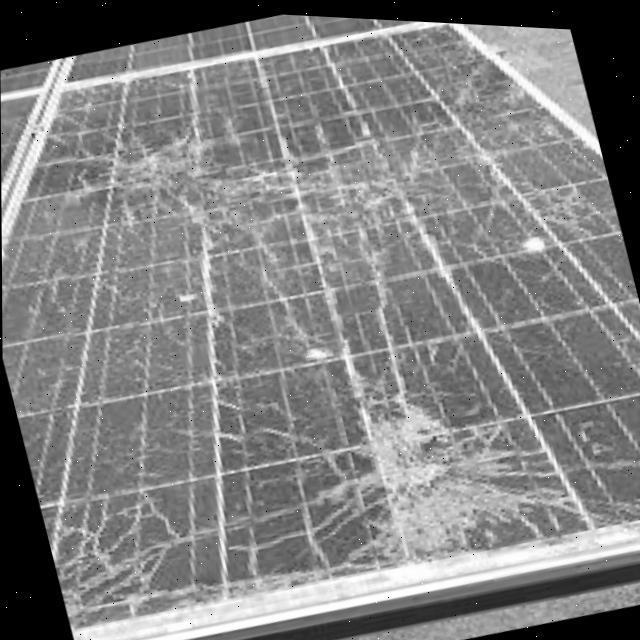Anomaly Solar Panel: (1, 17, 640, 640)
Structural Damage: (285, 346, 569, 582), (39, 471, 220, 633), (242, 125, 432, 268), (66, 106, 240, 228), (486, 158, 626, 278), (422, 34, 530, 168)
